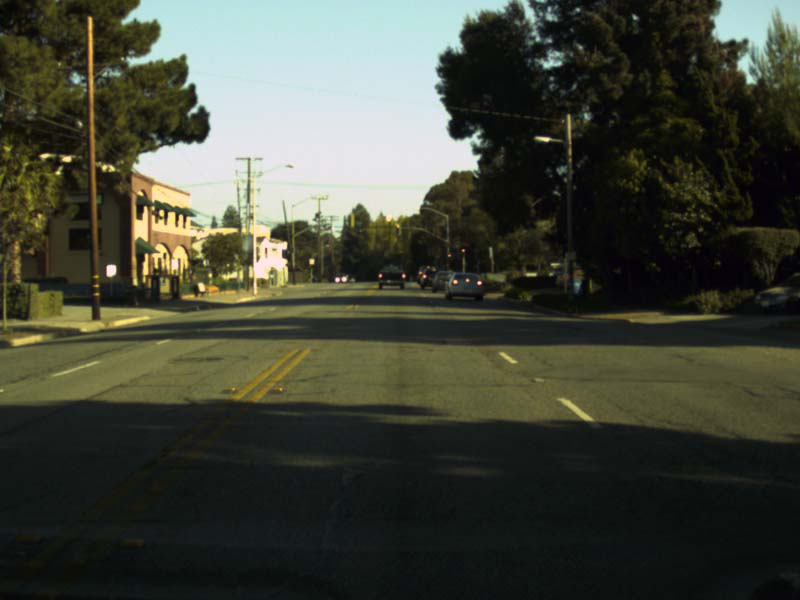Red: (394, 222, 400, 235), (459, 247, 465, 254), (445, 252, 451, 258)
